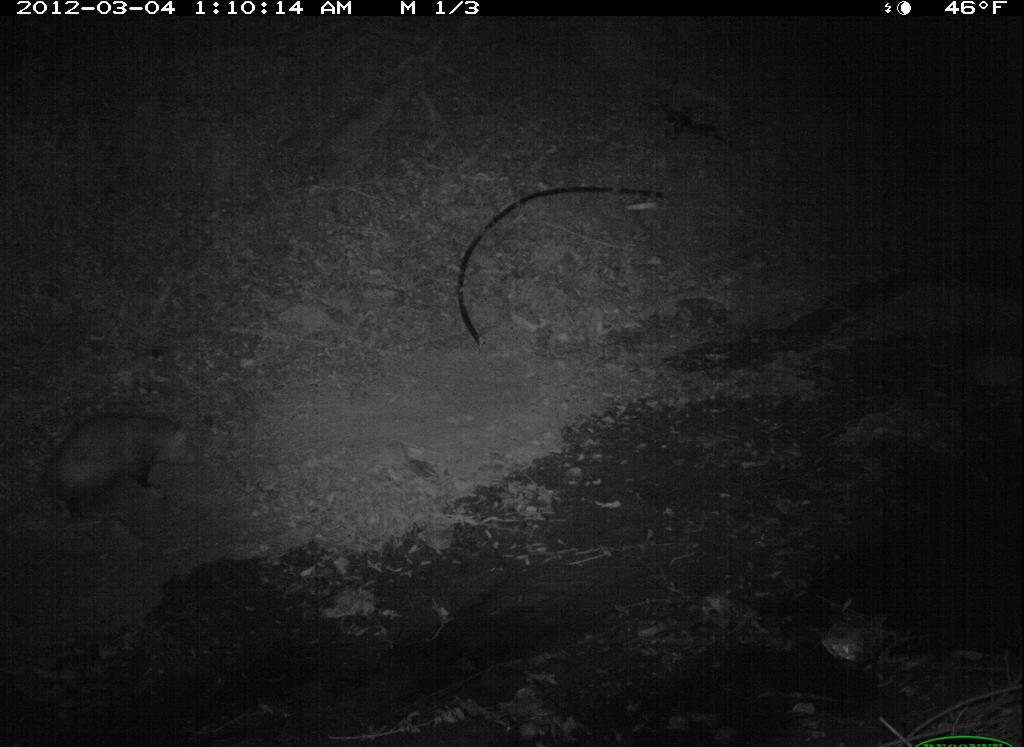opossum: (2, 387, 225, 534)
